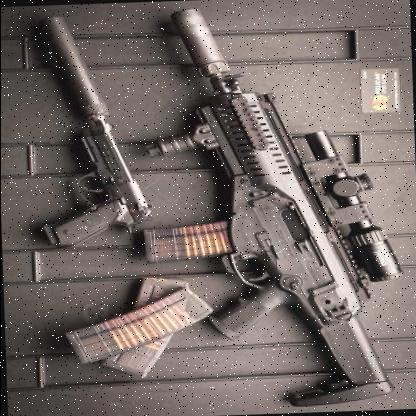rifle: (99, 1, 415, 409), (14, 6, 156, 243)
